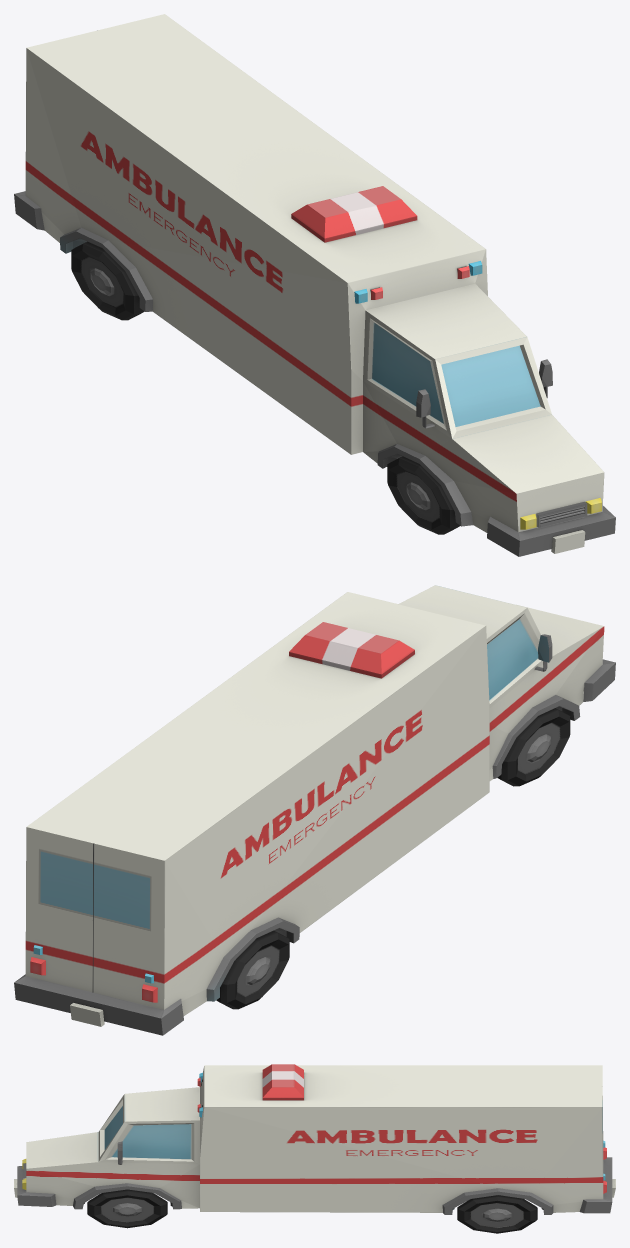
3 views of the same model, one above another, from view 1: azimuth 30°, elevation 25°; view 2: azimuth 150°, elevation 25°; view 3: azimuth 270°, elevation 25° (orthographic). The views are drawn at different scales.
Parts seen in each view (by area): view 1: Ambulance; view 2: Ambulance; view 3: Ambulance.
Part boxes in pixels (x1,y1,x2,y2): Ambulance: (14, 14, 615, 556); Ambulance: (14, 585, 615, 1035); Ambulance: (14, 1064, 615, 1233).
Size of the model in its own units: 93.61 by 119 by 481.
Materials: 1 (1 with a texture image).
